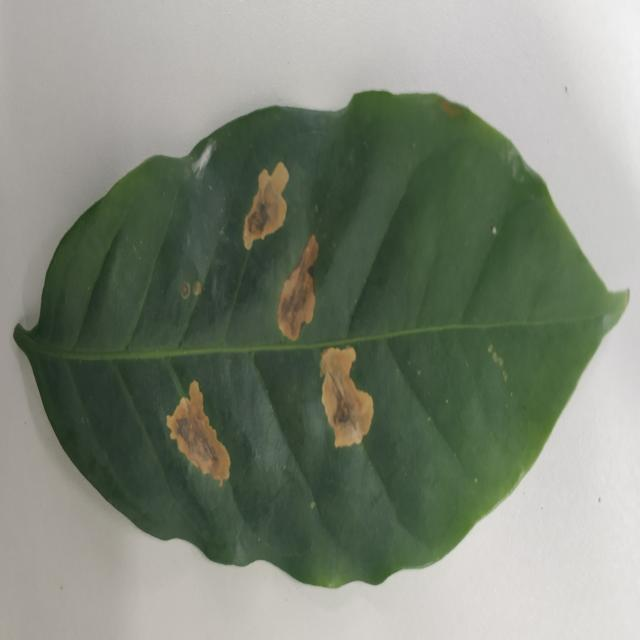Plaga-Minador: (13, 91, 631, 591)
